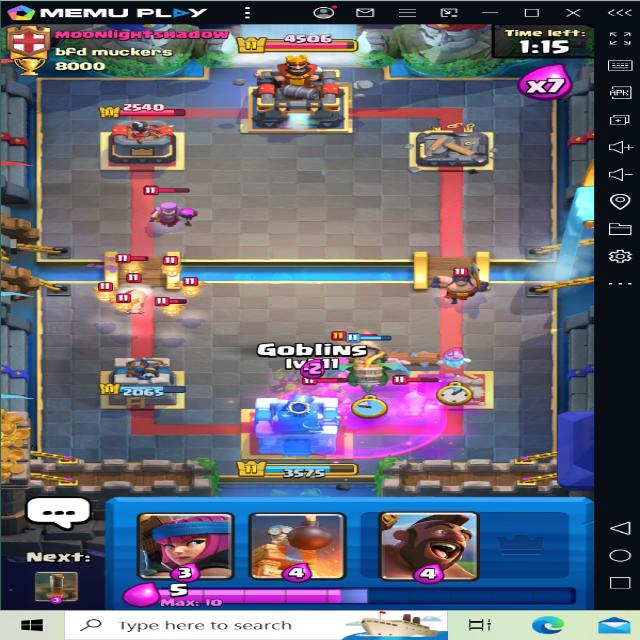executioner: (431, 264, 488, 305)
fisherman: (296, 378, 362, 416)
mother-witch: (139, 183, 204, 232)
pig: (116, 281, 160, 316), (398, 374, 432, 418)
rage: (286, 380, 445, 455)
